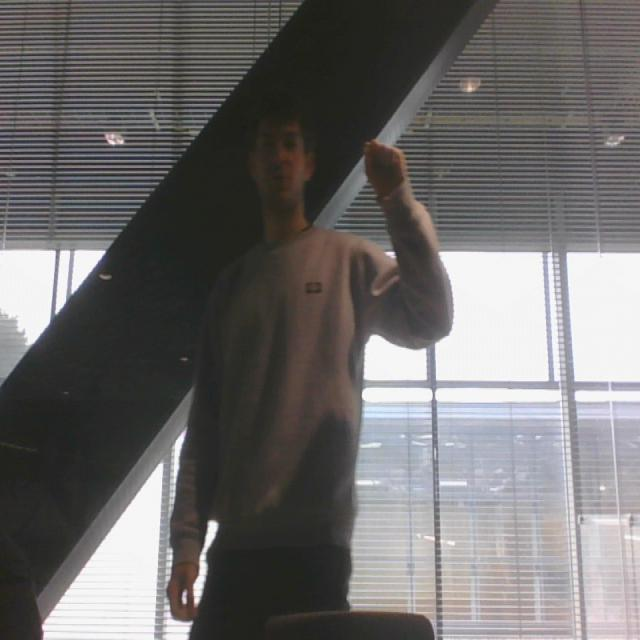stop: (362, 130, 408, 204)
